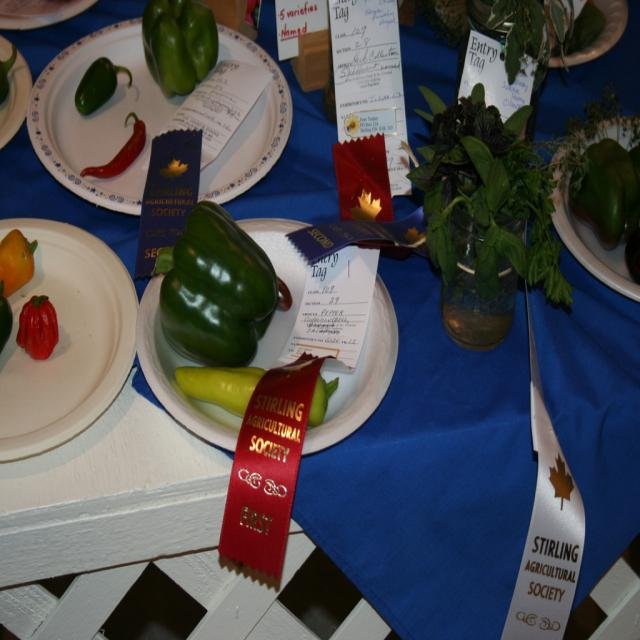non-organic waste: (131, 234, 410, 459), (37, 30, 294, 201)
